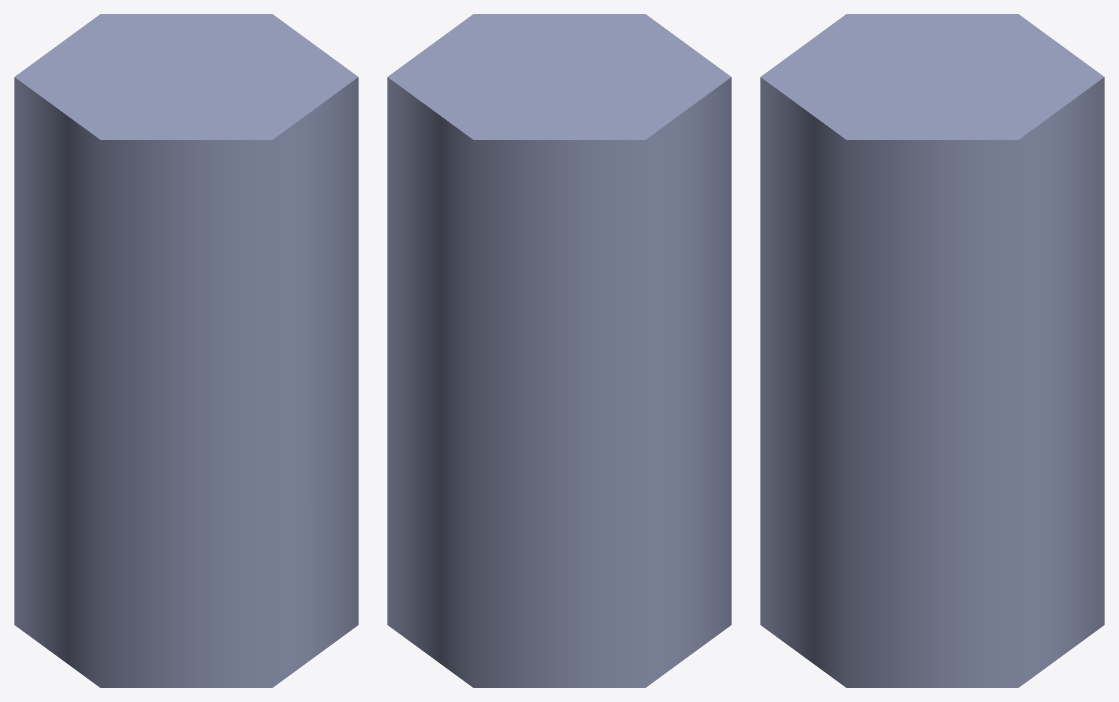
File: scifi-pipe.fbx
3 views of the same model, side by side, from view 1: azimuth 30°, elevation 25°; view 2: azimuth 150°, elevation 25°; view 3: azimuth 270°, elevation 25° (orthographic).
Parts seen in each view (by area): view 1: scifi-pipe; view 2: scifi-pipe; view 3: scifi-pipe.
Part boxes in pixels (box(x1,y1,x2,y2)): scifi-pipe: box(14, 14, 358, 687); scifi-pipe: box(387, 14, 731, 687); scifi-pipe: box(760, 14, 1104, 687).
Bounding box in the file's own units: 0.2464 × 0.2845 × 0.5.
